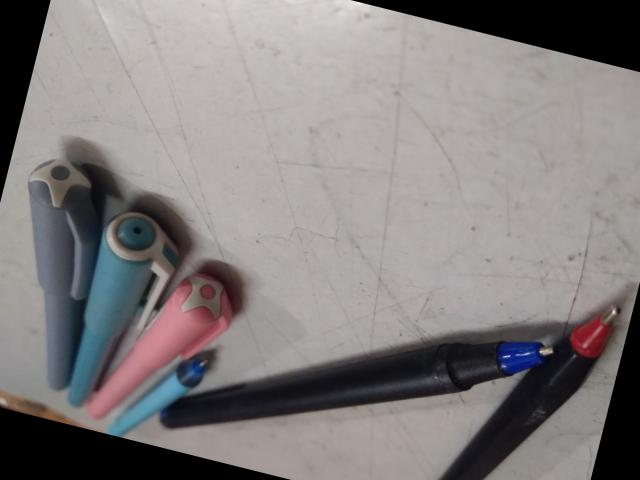PEN: (402, 33, 640, 339), (72, 11, 494, 165), (10, 0, 168, 213)
